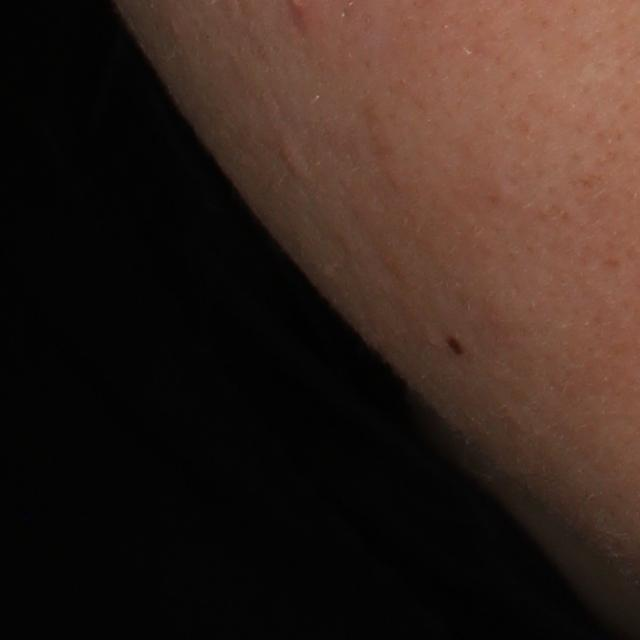comedo: (280, 144, 306, 180)
nevus: (442, 329, 469, 360)
